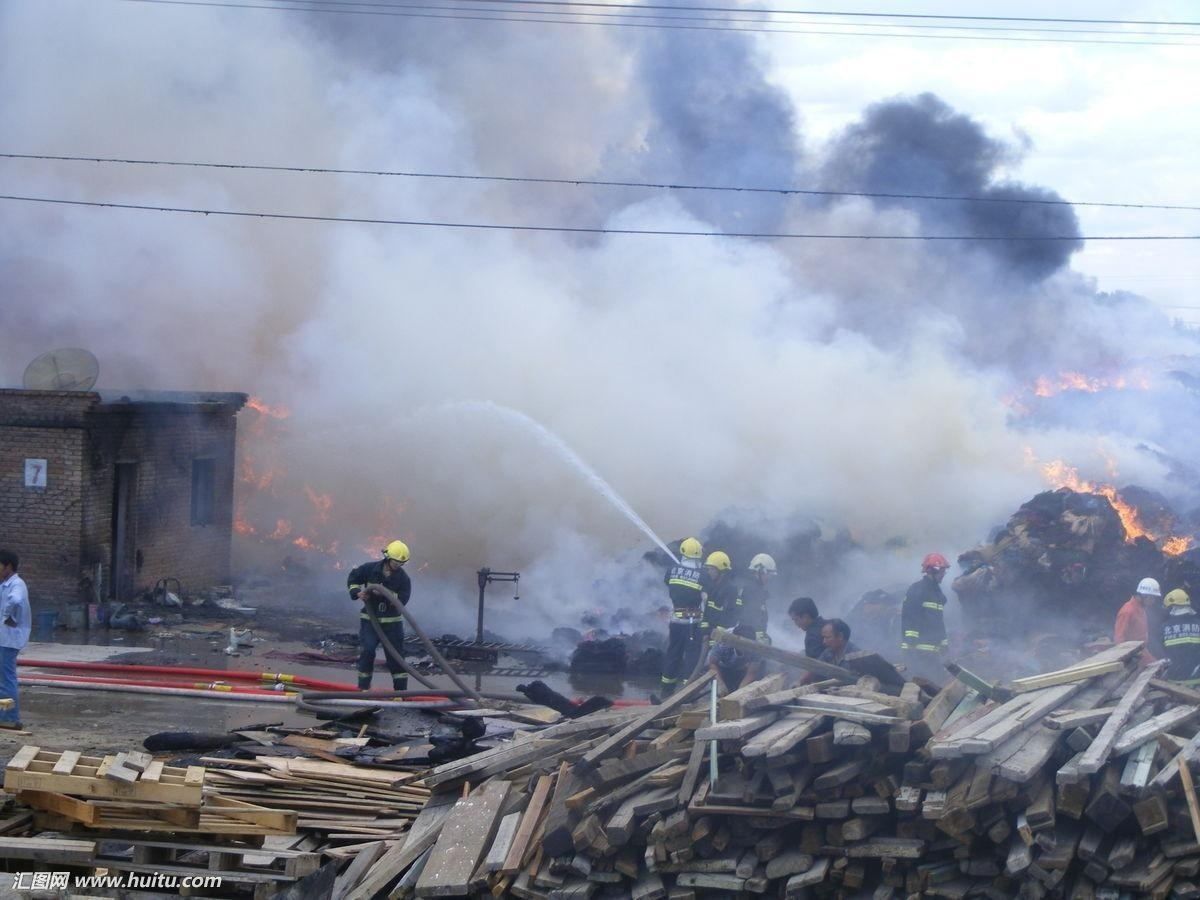fire: (997, 364, 1195, 553), (231, 391, 418, 559)
